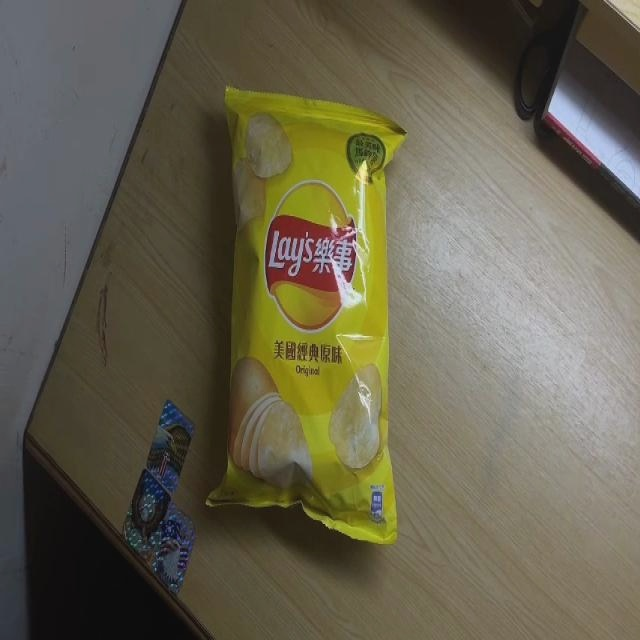Lay-s-original: (204, 82, 409, 548)
